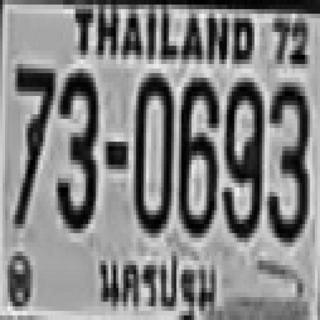N00: (134, 68, 171, 228)
N03: (265, 78, 307, 238), (55, 66, 96, 226)
N06: (176, 73, 217, 233)
N07: (13, 64, 53, 224)
N09: (222, 76, 262, 236)
P28: (94, 246, 222, 320)
